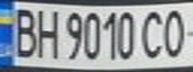0: (115, 8, 139, 61), (81, 8, 103, 61)
1: (100, 8, 118, 61)
9: (60, 8, 84, 61)
B: (6, 4, 42, 58)
C: (139, 7, 172, 61)
H: (33, 4, 60, 60)
O: (157, 6, 193, 58)
